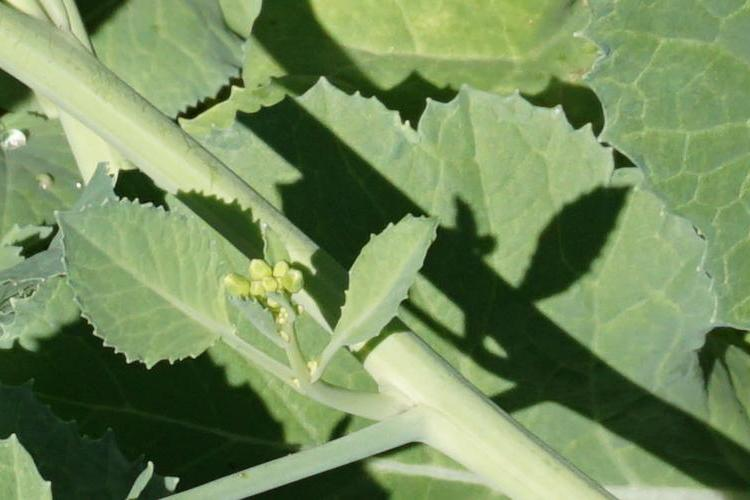bud: (223, 273, 256, 298), (248, 259, 273, 280), (284, 270, 304, 295), (265, 277, 284, 298), (251, 281, 268, 301), (272, 261, 287, 279)
